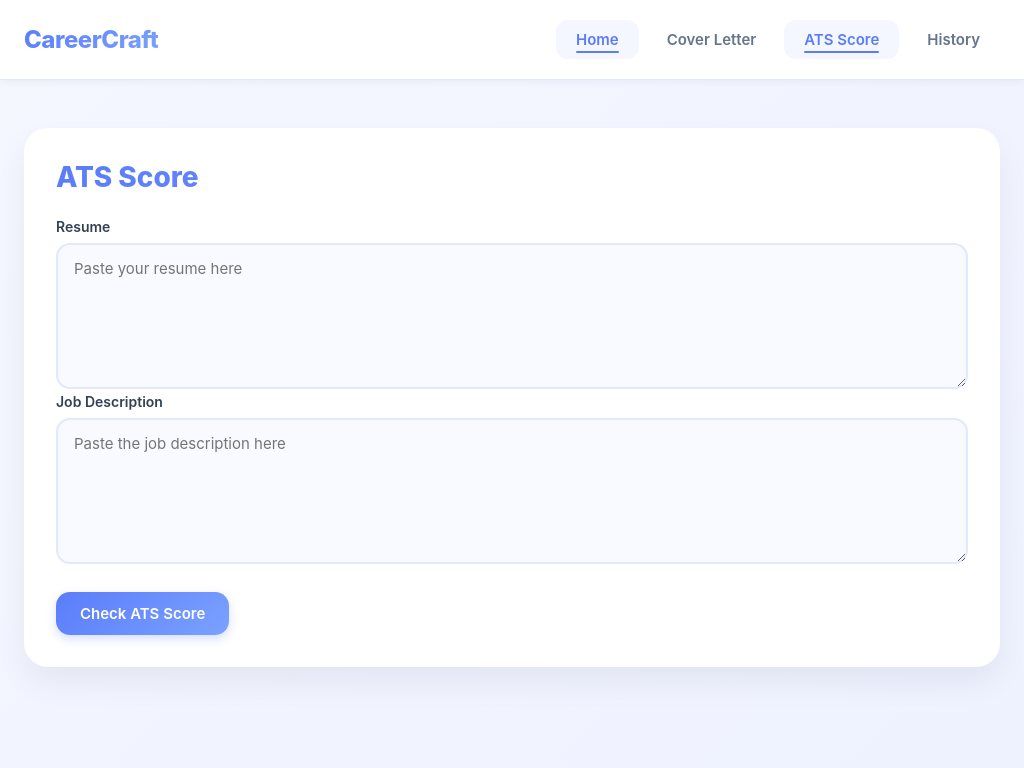
Test: ATS Score Page › shows ATS score for valid input
Type "Python developer with FastAPI and AWS" into the text box with placeholder "Paste your resume here" at point(512, 316), box [56,243,968,389]
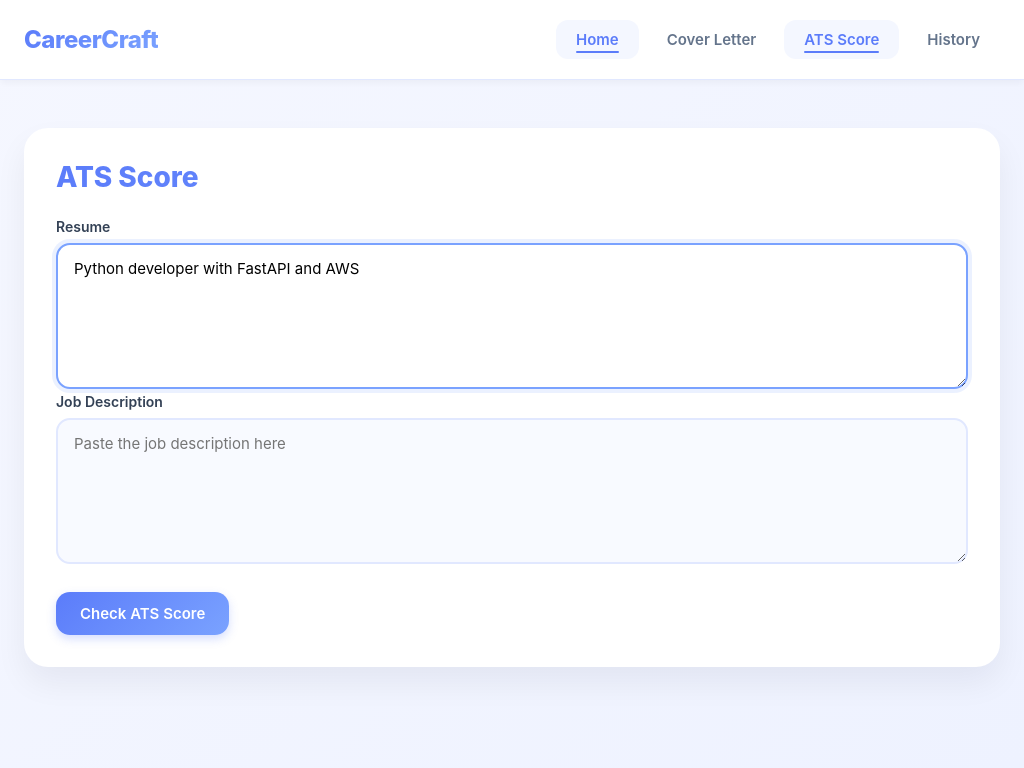
Type "Looking for a Python developer with FastAPI experience" into the text box with placeholder "Paste the job description here" at point(512, 491), box [56,418,968,564]
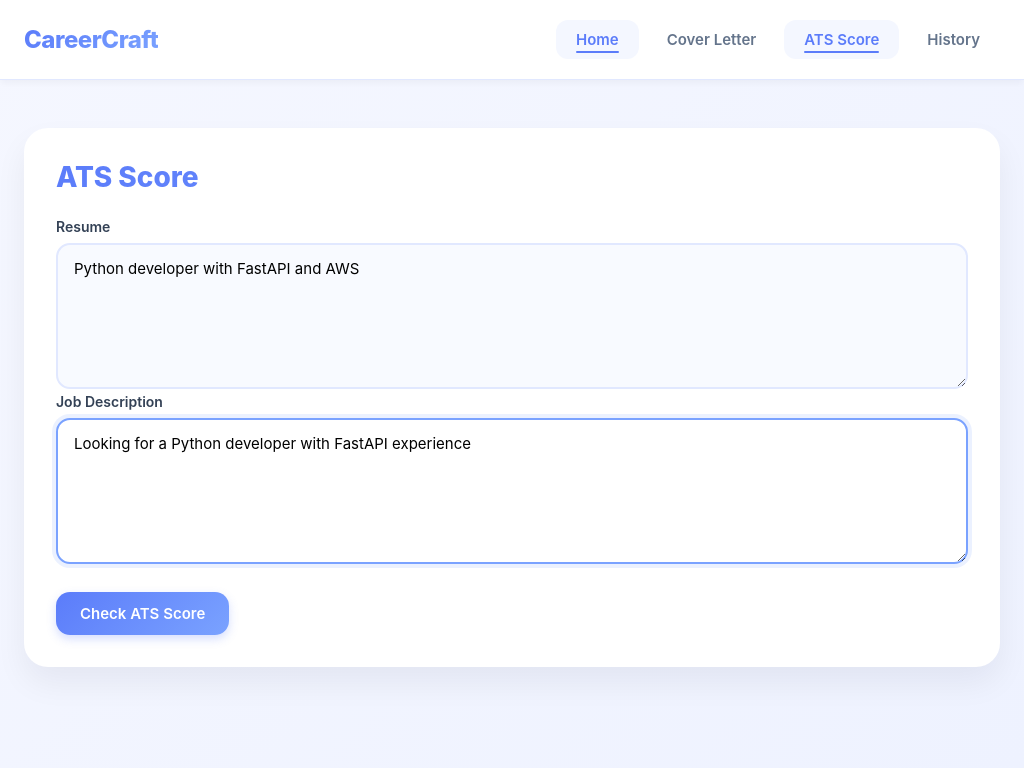
Click the button "Check ATS Score" at point(143, 614), box [56,592,229,635]
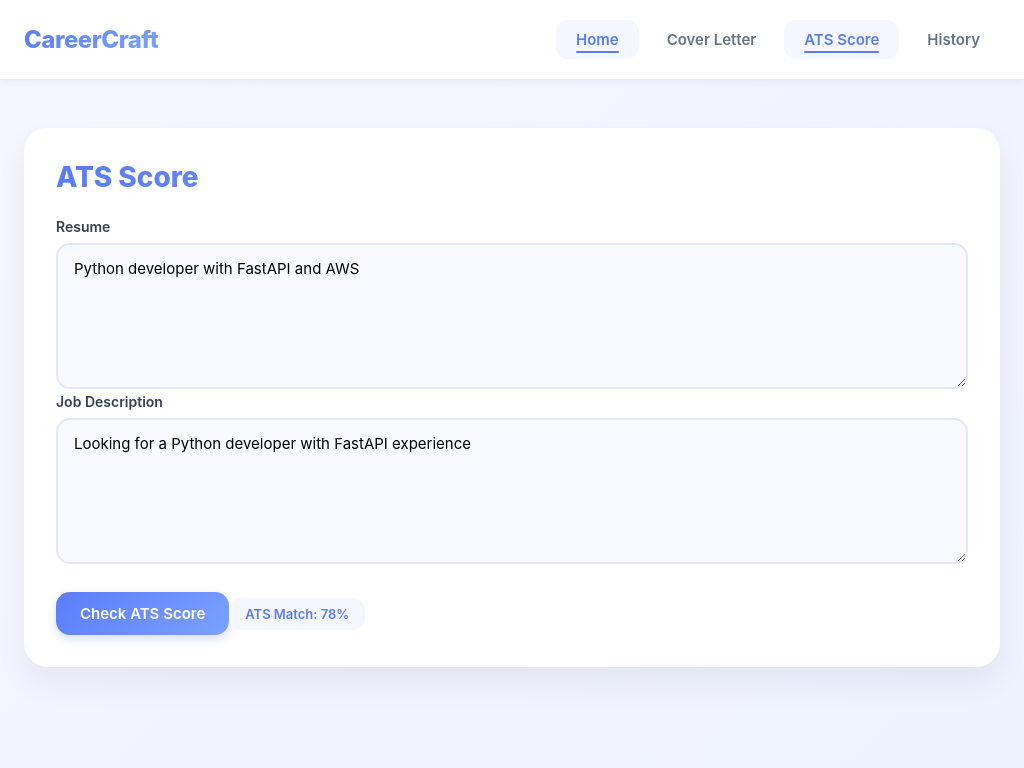
Now the text "ATS Match: 78%" is shown, box [229,598,366,630]
